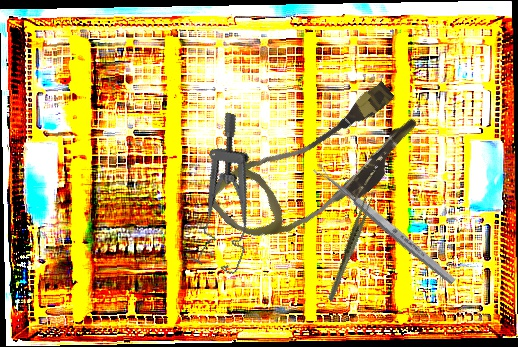Cannula: (203, 60, 431, 275)
Speculum: (172, 111, 288, 277)
Surgical Spoon: (312, 162, 458, 287)
Tissue Forceps: (309, 194, 390, 303)
